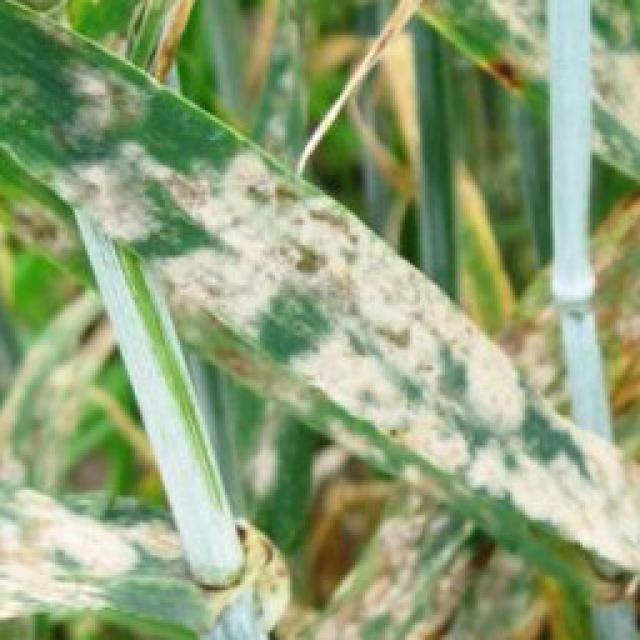wheat-powdery-mildew: (4, 9, 634, 604), (4, 480, 218, 622), (478, 5, 640, 152)
